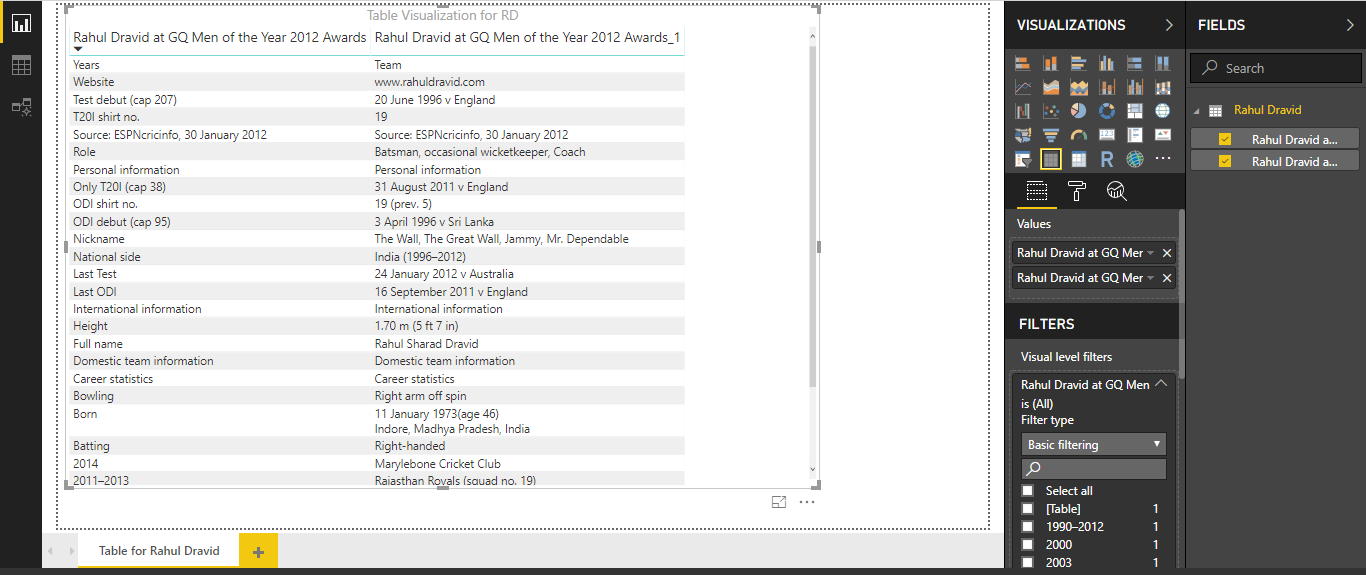

What the dashboard file says about the page in this screenshot:
{"tool":"powerbi","page":{"name":"Rahul Dravid Table","canvas":[1280,720],"ordinal":0},"visuals":[{"type":"tableEx","title":"Table Visualization for RD","fields":{"Values":["Rahul Dravid.Rahul Dravid at GQ Men of the Year 2012 Awards","Rahul Dravid.Rahul Dravid at GQ Men of the Year 2012 Awards_1"]},"box":[9.6,0,1039.4,666.3],"z":1}]}

Visuals, with their boxes on the page's 1280x720 design canvas (x1, y1, x2, y2). These are canvas units, not pixel positions in the 1366x575 screenshot, which may show the page scaled, cropped or inside an application window:
"Table Visualization for RD" tableEx: 10 0 1049 666
